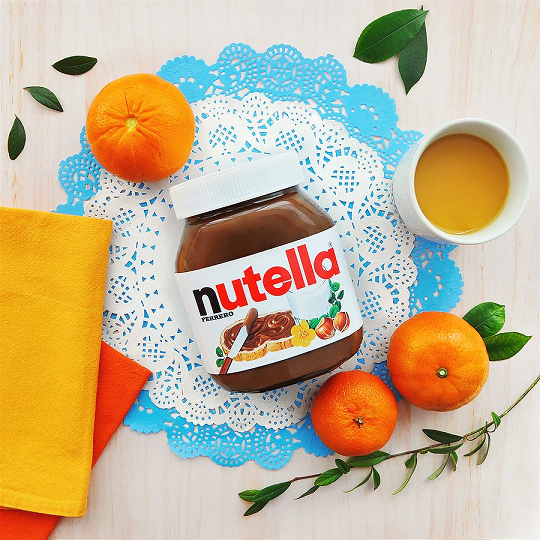nutella: (168, 147, 364, 394)
